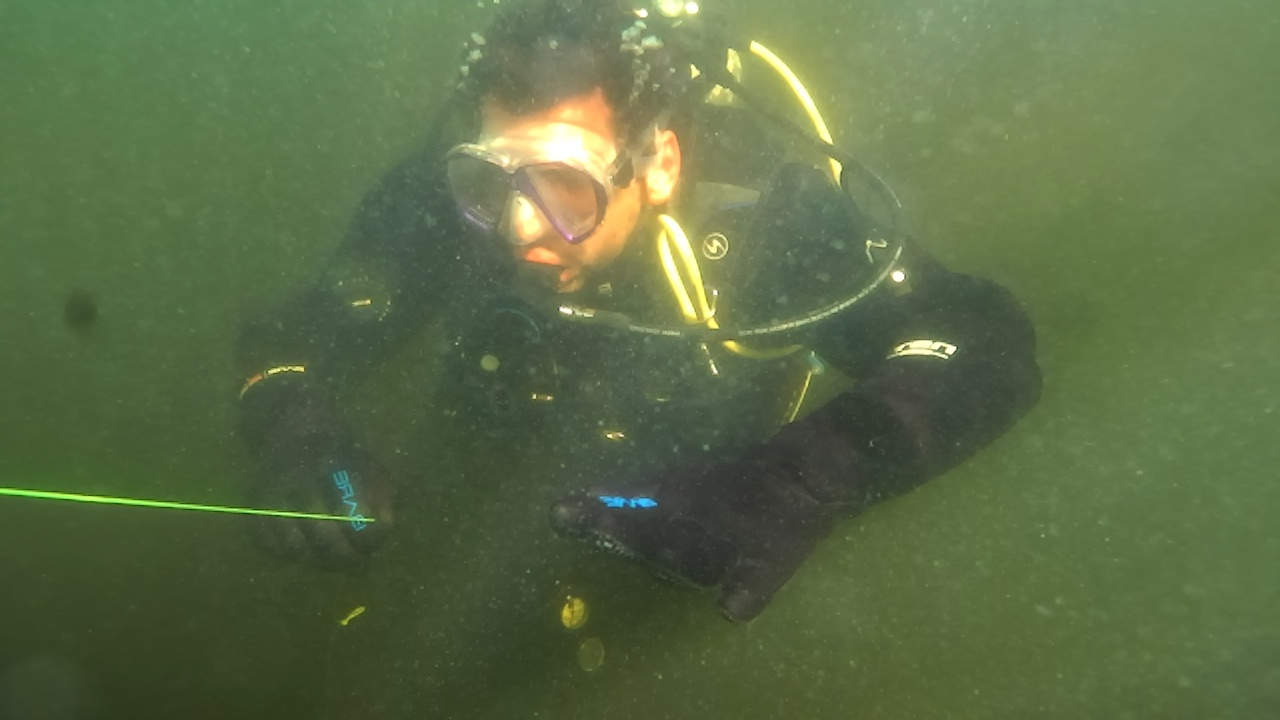Diver: (164, 6, 1086, 654)
Hand: (518, 414, 840, 636), (202, 410, 428, 580)
Head: (422, 12, 708, 326)
